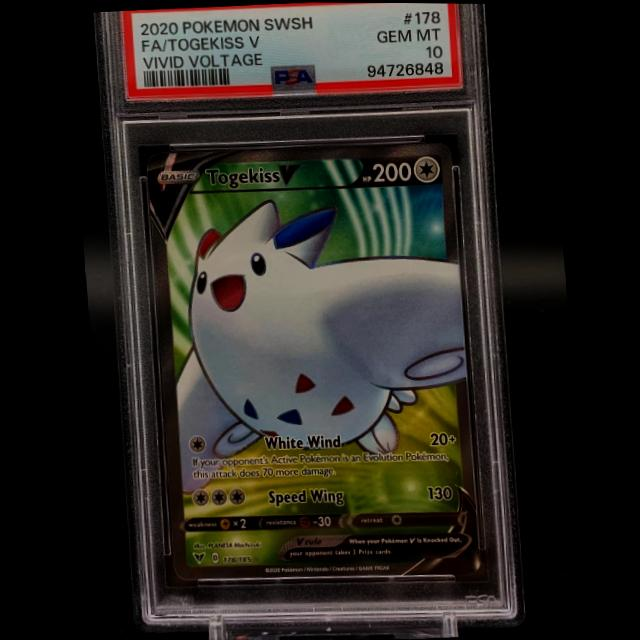card: (144, 141, 479, 580)
psa_label: (121, 2, 462, 99)
psa_slab: (94, 2, 522, 632)
